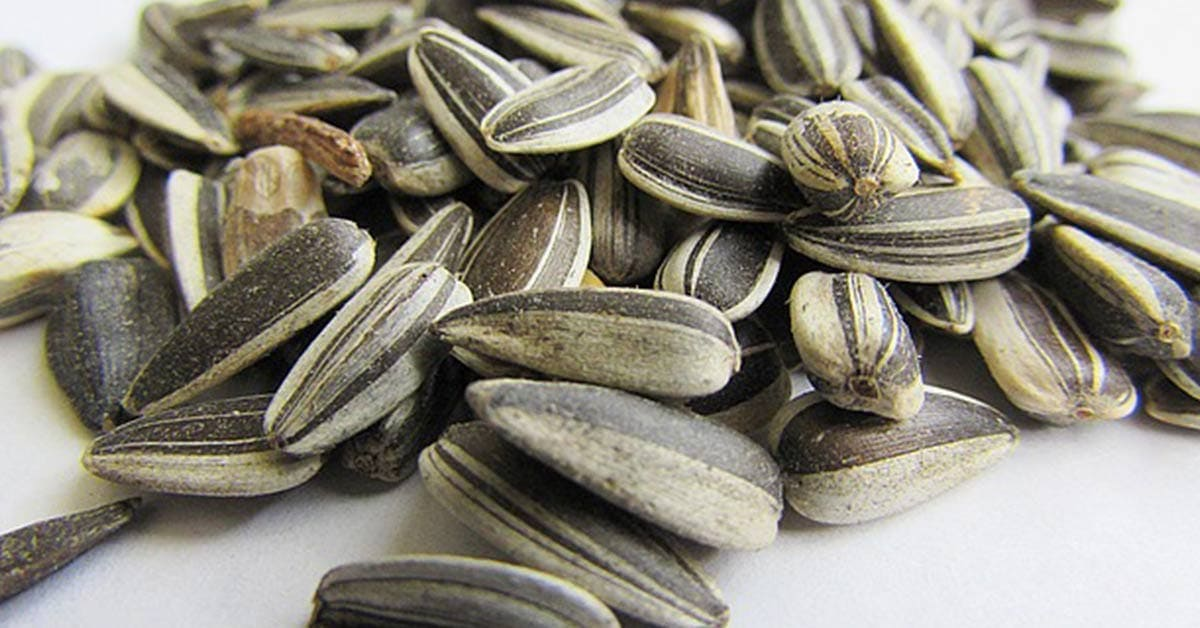seed: (1, 15, 1200, 602)
